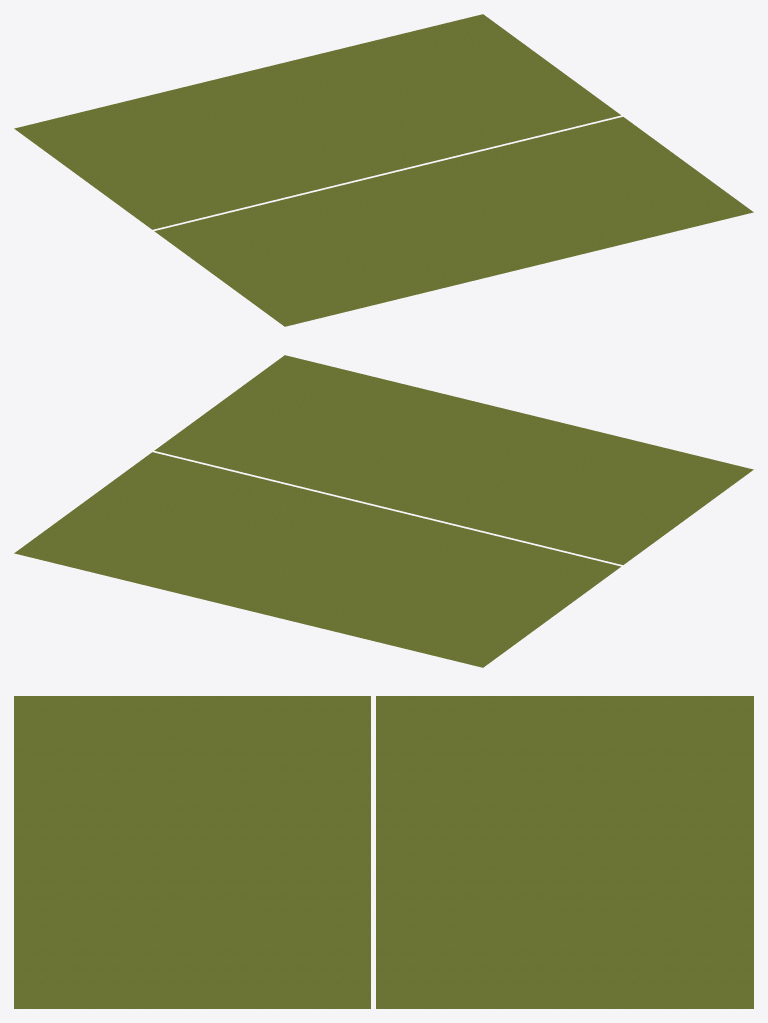
Rendered from SM_Yard_Lawn.fbx.
3 renders of one model, top to bottom at view 1: azimuth 30°, elevation 25°; view 2: azimuth 150°, elevation 25°; view 3: azimuth 270°, elevation 25°, orthographic. The views are drawn at different scales.
Visible parts, largest first — view 1: SM_Yard_Lawn; view 2: SM_Yard_Lawn; view 3: SM_Yard_Lawn.
Boxes of the visible parts, left/top/right/bottom form: SM_Yard_Lawn: left=14, top=14, right=753, bottom=326; SM_Yard_Lawn: left=14, top=355, right=753, bottom=667; SM_Yard_Lawn: left=14, top=696, right=753, bottom=1008.
Bounding box in the file's own units: 1200 × 5.25e-05 × 1200.
Materials: 1 (1 with a texture image).
